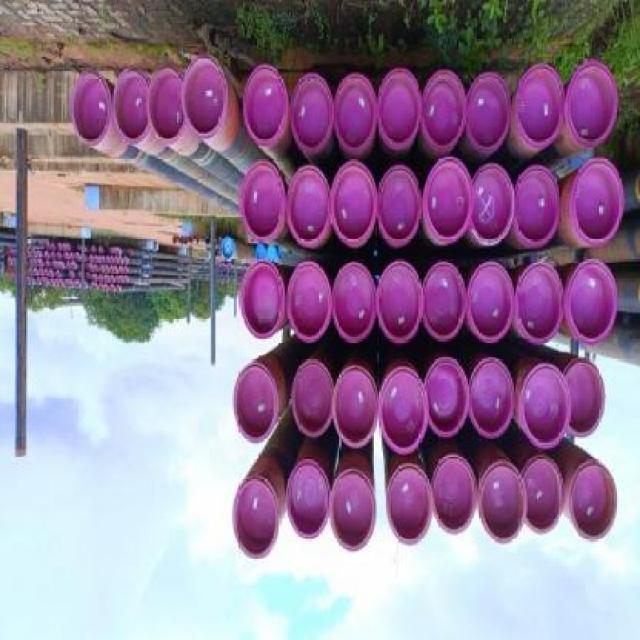pipe: (572, 157, 626, 248), (566, 59, 620, 150), (566, 259, 620, 348), (231, 471, 282, 565), (328, 466, 379, 559), (379, 365, 430, 458), (518, 360, 571, 449), (423, 156, 474, 245), (479, 462, 530, 548), (516, 65, 567, 151), (568, 460, 621, 542), (182, 54, 231, 142), (377, 260, 425, 348), (331, 160, 379, 248), (331, 365, 380, 450), (514, 165, 562, 249), (386, 462, 432, 548), (377, 165, 423, 251), (517, 262, 565, 344), (468, 262, 516, 344), (470, 357, 516, 442), (422, 68, 468, 153), (332, 260, 377, 346), (286, 260, 331, 346), (286, 165, 331, 251), (240, 259, 285, 344), (242, 160, 287, 245), (332, 72, 377, 157), (243, 65, 288, 150), (433, 454, 479, 537), (233, 363, 279, 446), (466, 69, 512, 151), (379, 66, 424, 149), (289, 74, 334, 157), (565, 356, 608, 442), (423, 262, 468, 344), (291, 362, 337, 440), (522, 452, 565, 534), (286, 458, 329, 540), (471, 165, 514, 247), (425, 359, 468, 439), (148, 63, 188, 145), (113, 66, 153, 148), (71, 71, 113, 147)
